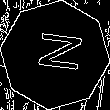N_W: (27, 32, 83, 78)
